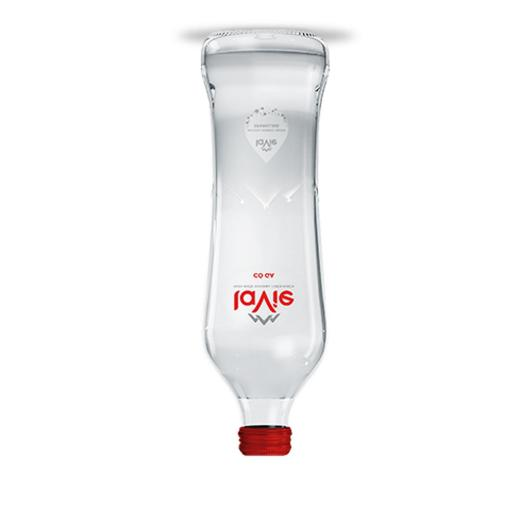bottle: (201, 29, 330, 456)
